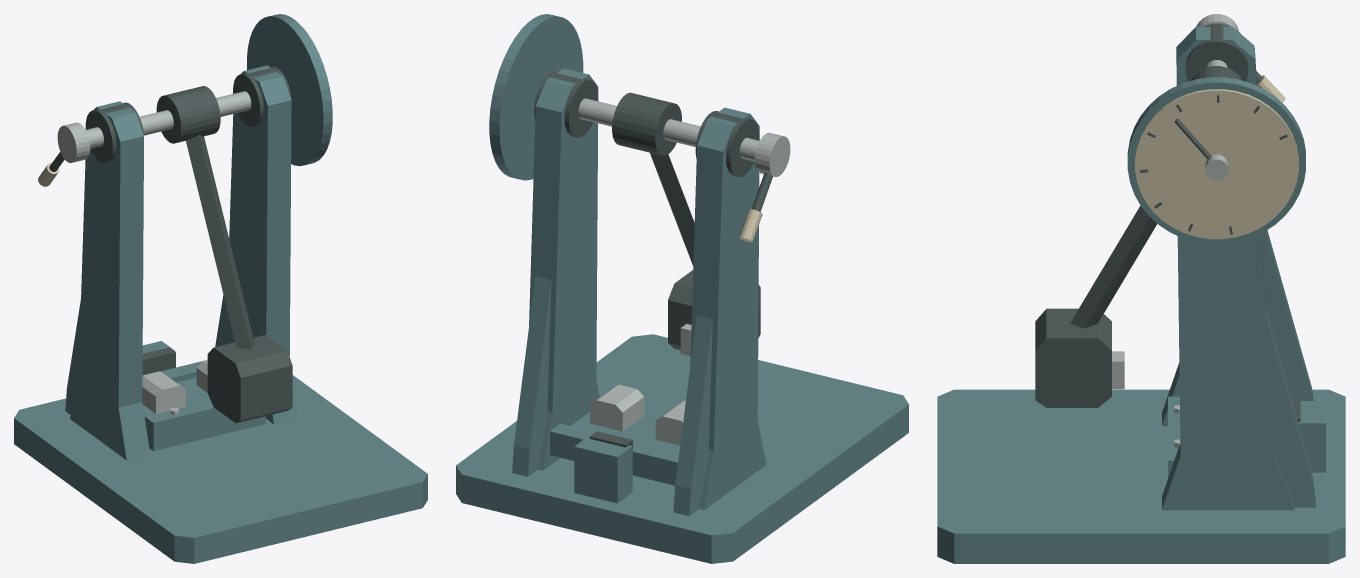
The picture shows the model from 3 angles, left to right: view 1: azimuth 30°, elevation 25°; view 2: azimuth 150°, elevation 25°; view 3: azimuth 270°, elevation 25°; orthographic projection. The views are drawn at different scales.
Parts seen in each view (by area): view 1: WholeBroadChamferedGroundSole, WholeTaperedCastStandard0, WholeTaperedCastStandard1, WholeSideCircularDialBack, WholeChamferedLowerHammerBody, WholeLongRectangularPendulumArm, WholeLowCommonAnvilSeat, WholeCentralPendulumHub, WholeRetainedTopCrossshaft, WholeSeparateBluntAnvil0, WholeProudBearingHousing0, WholeProudBearingHousing1 (+3 smaller); view 2: WholeBroadChamferedGroundSole, WholeTaperedCastStandard0, WholeTaperedCastStandard1, WholeSideCircularDialBack, WholeRearCastButtress1, WholeRearCastButtress0, WholeRootedRearStopPedestal, WholeCentralPendulumHub, WholeLowRearStandardsTie, WholeSeparateBluntAnvil1, WholeRetainedTopCrossshaft, WholeLongRectangularPendulumArm (+6 smaller); view 3: WholeBroadChamferedGroundSole, WholeTaperedCastStandard1, WholeInsetOpaqueDialFace, WholeChamferedLowerHammerBody, WholeSideCircularDialBack, WholeRearCastButtress1, WholeLongRectangularPendulumArm, WholeRearCastButtress0, WholeTaperedCastStandard0, WholeProudBearingHousing0, WholeRootedRearStopPedestal, WholeLowCommonAnvilSeat (+2 smaller).
Part boxes in pixels (x1=…): WholeBroadChamferedGroundSole: x1=14, y1=375, x2=427, y2=563; WholeTaperedCastStandard0: x1=70, y1=101, x2=150, y2=460; WholeTaperedCastStandard1: x1=225, y1=65, x2=297, y2=424; WholeSideCircularDialBack: x1=247, y1=14, x2=332, y2=166; WholeChamferedLowerHammerBody: x1=207, y1=335, x2=292, y2=423; WholeLongRectangularPendulumArm: x1=186, y1=135, x2=254, y2=349; WholeLowCommonAnvilSeat: x1=143, y1=377, x2=265, y2=451; WholeCentralPendulumHub: x1=156, y1=86, x2=220, y2=143; WholeRetainedTopCrossshaft: x1=86, y1=91, x2=251, y2=148; WholeSeparateBluntAnvil0: x1=142, y1=371, x2=185, y2=414; WholeProudBearingHousing0: x1=85, y1=102, x2=143, y2=162; WholeProudBearingHousing1: x1=233, y1=66, x2=291, y2=126; WholeBroadChamferedGroundSole: x1=456, y1=334, x2=908, y2=563; WholeTaperedCastStandard0: x1=690, y1=107, x2=766, y2=509; WholeTaperedCastStandard1: x1=529, y1=68, x2=599, y2=470; WholeSideCircularDialBack: x1=489, y1=14, x2=583, y2=180; WholeRearCastButtress1: x1=512, y1=276, x2=551, y2=476; WholeRearCastButtress0: x1=673, y1=315, x2=712, y2=516; WholeRootedRearStopPedestal: x1=574, y1=435, x2=632, y2=503; WholeCentralPendulumHub: x1=612, y1=92, x2=681, y2=155; WholeLowRearStandardsTie: x1=550, y1=424, x2=679, y2=485; WholeSeparateBluntAnvil1: x1=590, y1=384, x2=644, y2=431; WholeRetainedTopCrossshaft: x1=578, y1=98, x2=759, y2=161; WholeLongRectangularPendulumArm: x1=650, y1=153, x2=694, y2=265; WholeBroadChamferedGroundSole: x1=937, y1=389, x2=1345, y2=563; WholeTaperedCastStandard1: x1=1162, y1=234, x2=1294, y2=510; WholeInsetOpaqueDialFace: x1=1135, y1=89, x2=1298, y2=239; WholeChamferedLowerHammerBody: x1=1035, y1=308, x2=1111, y2=407; WholeSideCircularDialBack: x1=1127, y1=77, x2=1305, y2=244; WholeRearCastButtress1: x1=1265, y1=308, x2=1315, y2=507; WholeLongRectangularPendulumArm: x1=1070, y1=205, x2=1157, y2=328; WholeRearCastButtress0: x1=1265, y1=230, x2=1313, y2=400; WholeTaperedCastStandard0: x1=1162, y1=26, x2=1271, y2=426; WholeProudBearingHousing0: x1=1185, y1=24, x2=1248, y2=81; WholeRootedRearStopPedestal: x1=1298, y1=401, x2=1325, y2=472; WholeLowCommonAnvilSeat: x1=1168, y1=396, x2=1180, y2=477.
Bounding box in the file's own units: 1.22 × 1.85 × 1.46.
